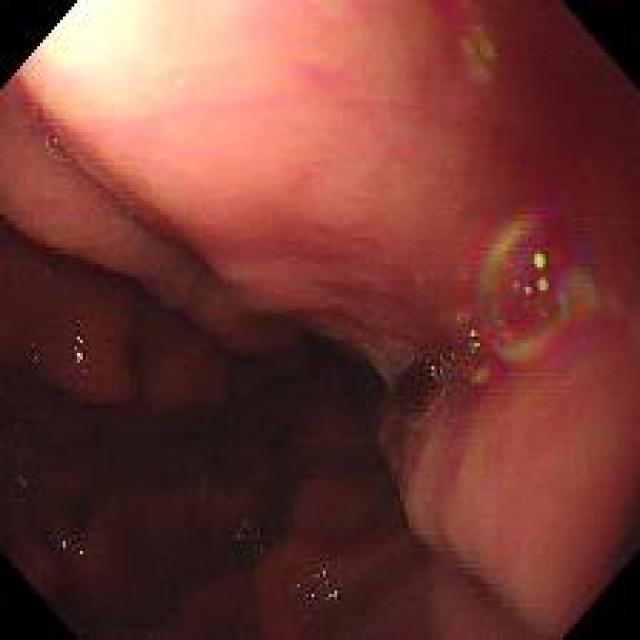bubbles: (463, 209, 598, 365), (40, 130, 75, 165), (23, 345, 48, 372), (496, 599, 509, 614)
color misalignment: (463, 210, 598, 366), (401, 401, 470, 566), (384, 348, 460, 429), (455, 558, 531, 632), (455, 20, 517, 89), (285, 567, 349, 624), (233, 520, 292, 564), (458, 362, 512, 405), (55, 536, 105, 567), (69, 331, 90, 384), (16, 476, 31, 496)
contrast: (16, 274, 421, 623)
saturation: (39, 1, 195, 111)
